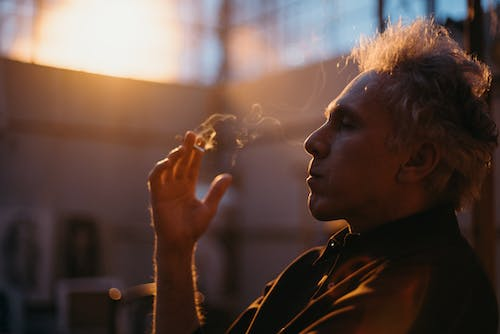cigarette: (173, 133, 206, 154)
